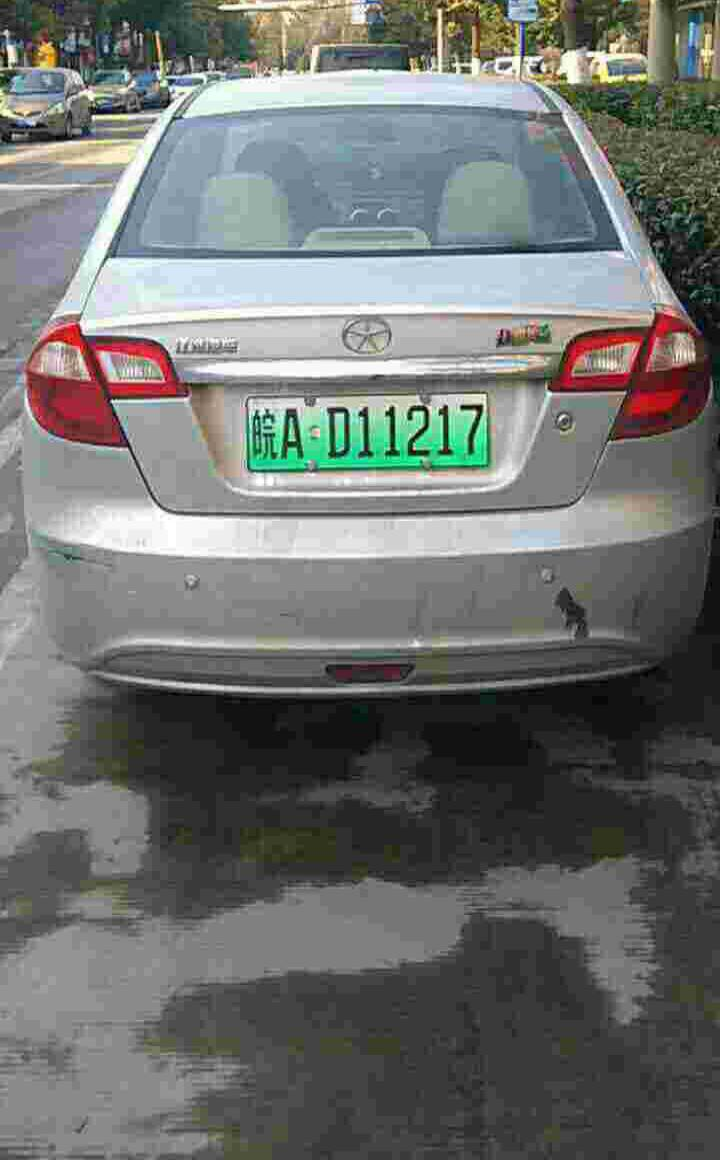car_id: (245, 393, 488, 466)
